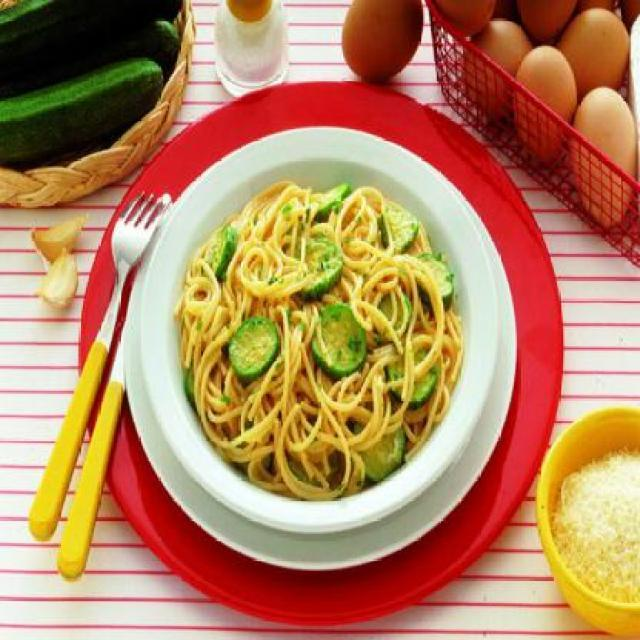Pasta with carbonara sauce: (155, 148, 578, 544)
